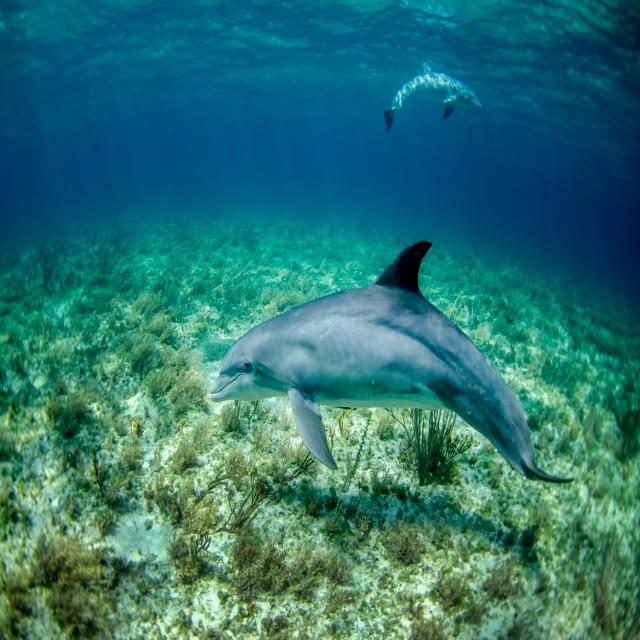penguin: (210, 241, 570, 482), (382, 66, 481, 132)
